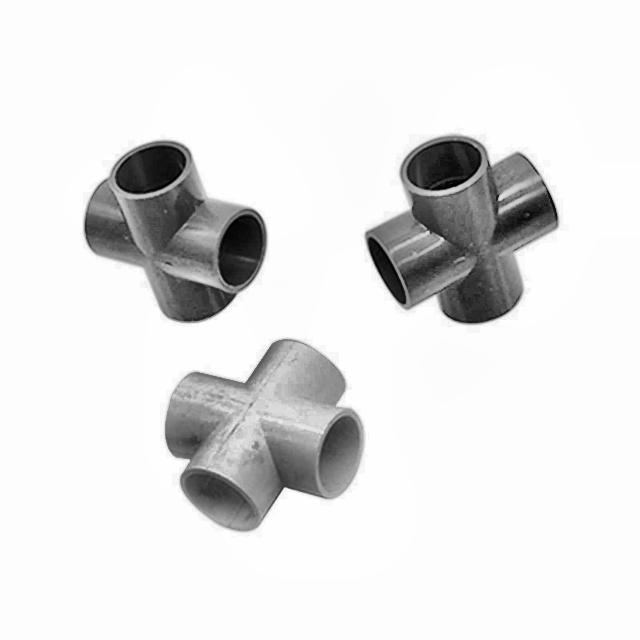EQUALCROSS: (163, 339, 367, 534), (365, 135, 561, 326), (84, 141, 269, 325)
